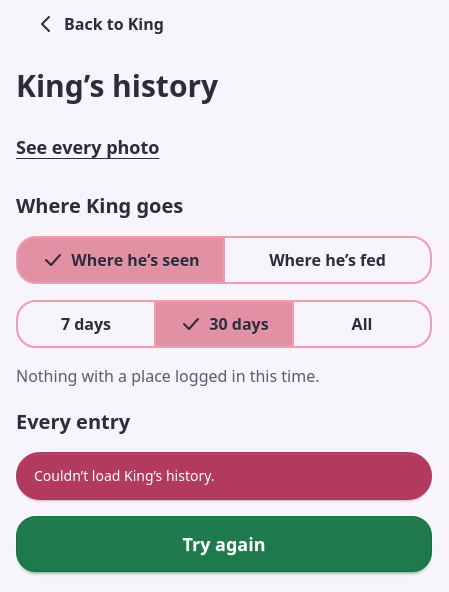
Test: HistoryPage — every entry › says so when the history can’t be loaded, and can try again
The image size is (449, 592).
Expected: the message reads "Couldn’t load King’s history.", top-left (34, 466), bottom-right (215, 485)
Click the button "Try again" at coordinates (224, 544), box top-left (16, 516), bottom-right (432, 572)
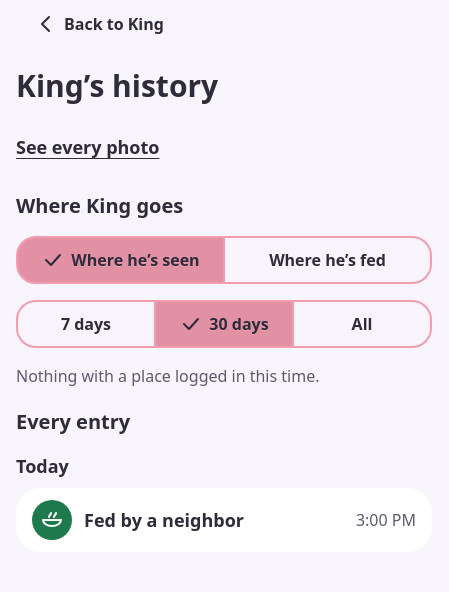
Now the heading "Today" is shown, box top-left (16, 454), bottom-right (69, 478)
Now the message "Couldn’t load King’s history." is gone
